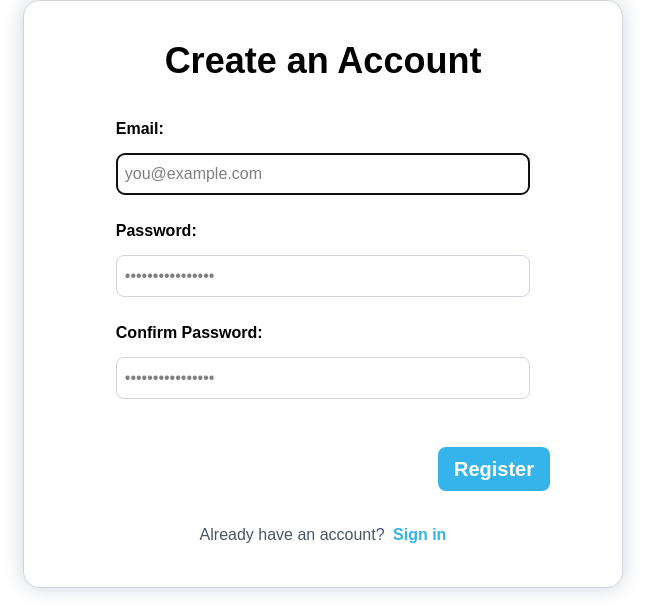
RegisterPanel › displays the conflict message when register() returns with a "Conflict" error
In the field named "Email:*": (323, 174) [116,153,530,195], type "user@example.com"
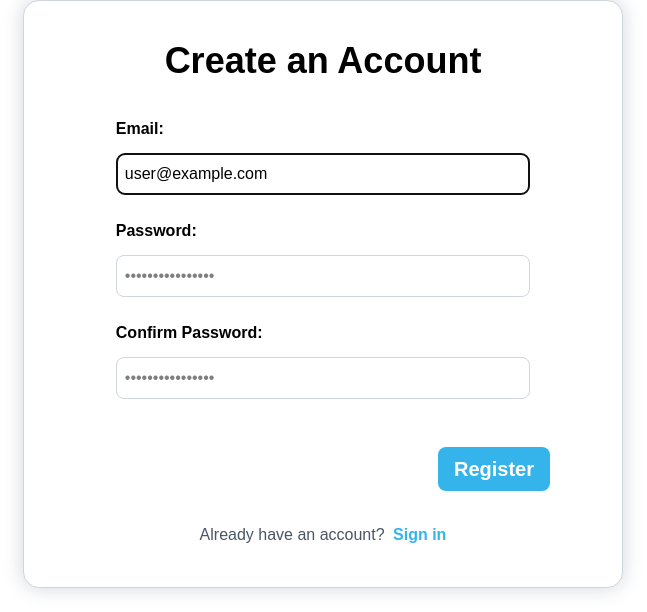
In the password field named "Password:*": (323, 276) [116,255,530,297], type "Password123@"
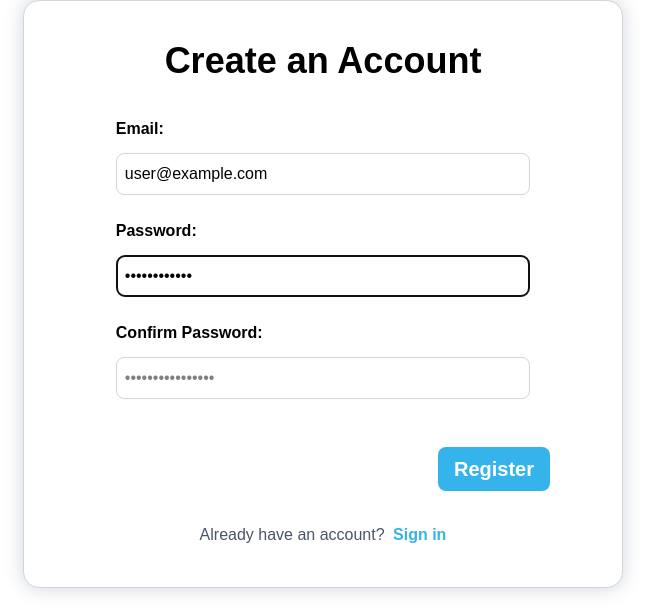
In the password field named "Confirm Password:*": (323, 378) [116,357,530,399], type "Password123@"
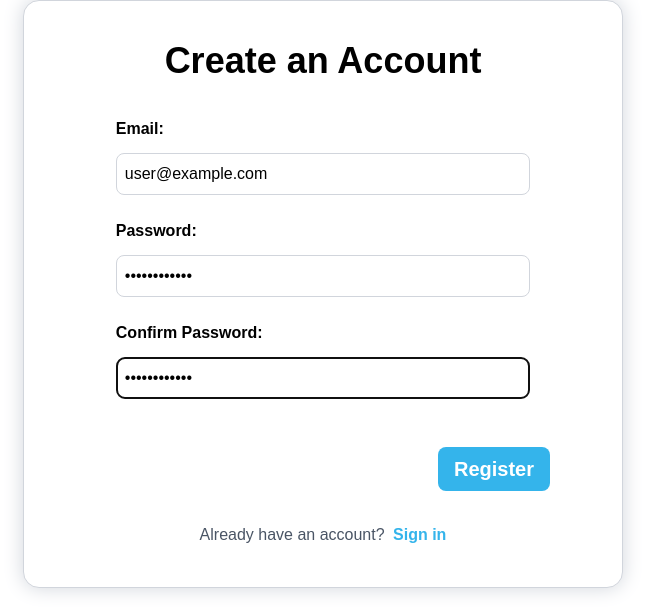
Click the button "Register": (494, 469) [438,447,550,491]
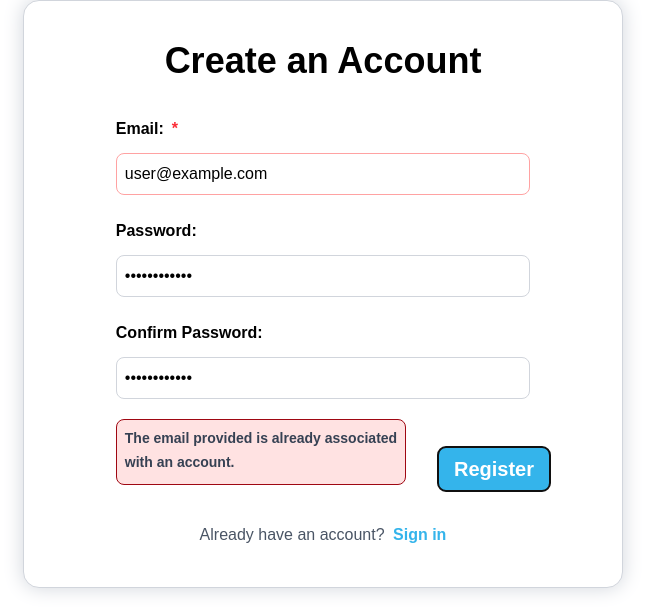
Expected: the text "The email provided is already associated" is shown, [125,428,397,448]
